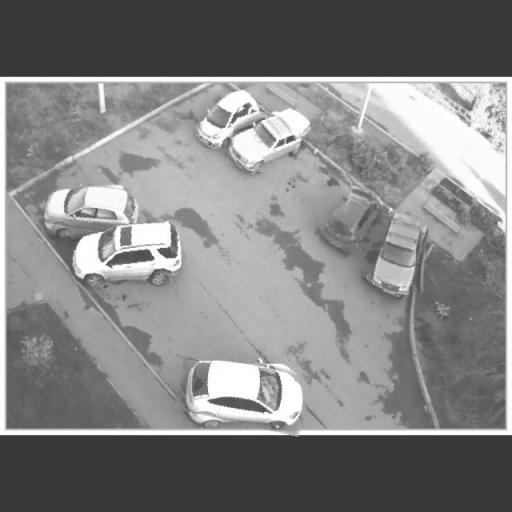busy: (176, 354, 310, 430), (67, 221, 186, 285), (359, 212, 430, 300), (44, 180, 143, 236), (228, 110, 303, 176), (316, 186, 384, 252), (192, 92, 258, 150)
free: (140, 298, 216, 360), (272, 164, 352, 212)
